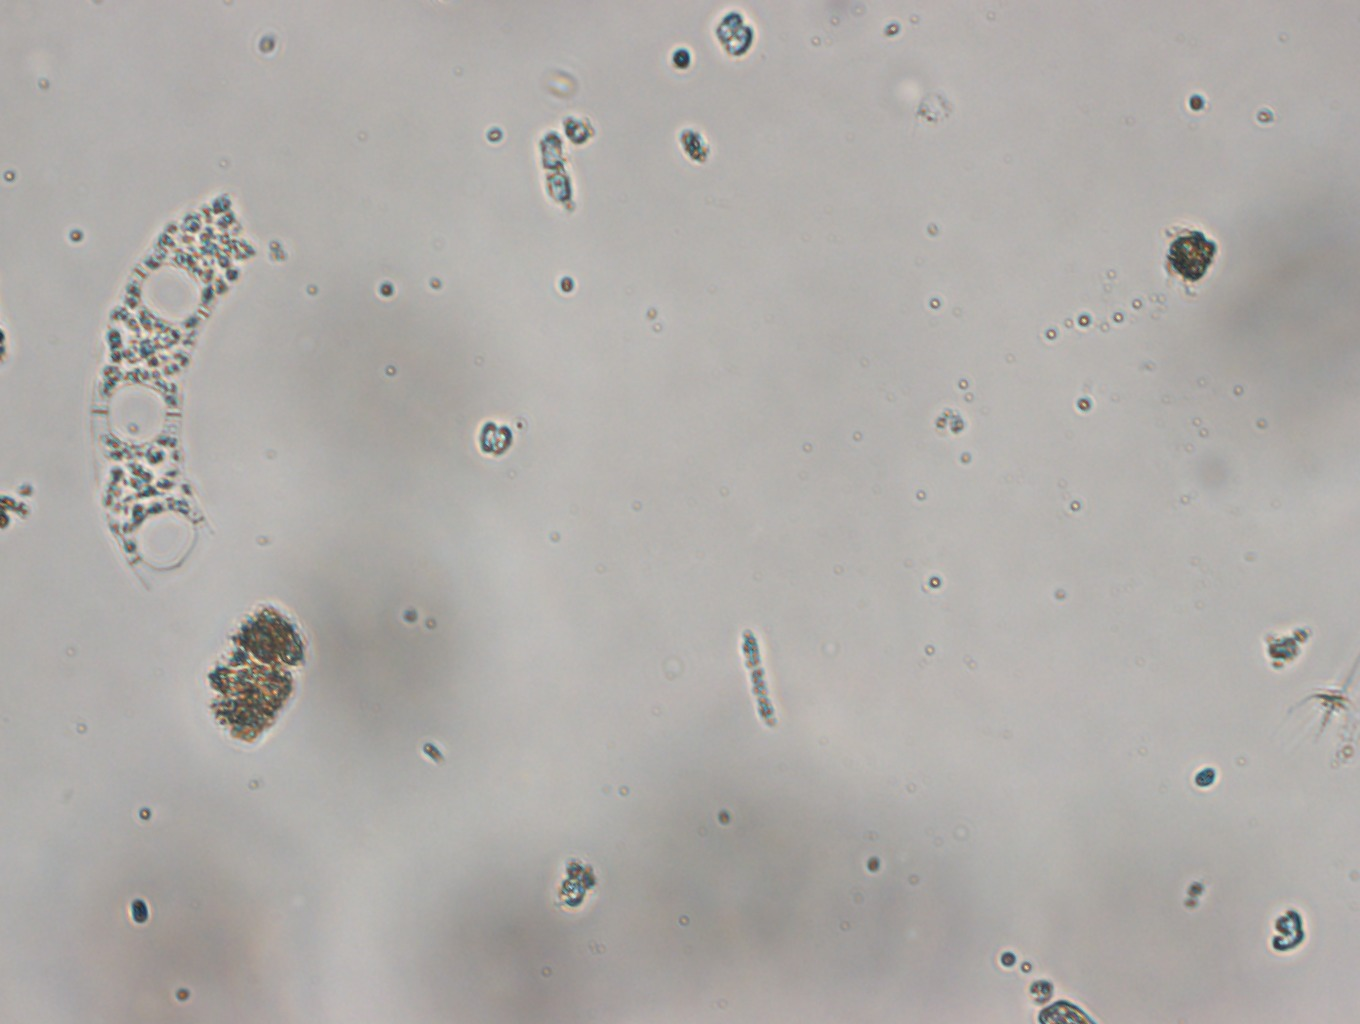eucampia: (88, 177, 245, 603)
